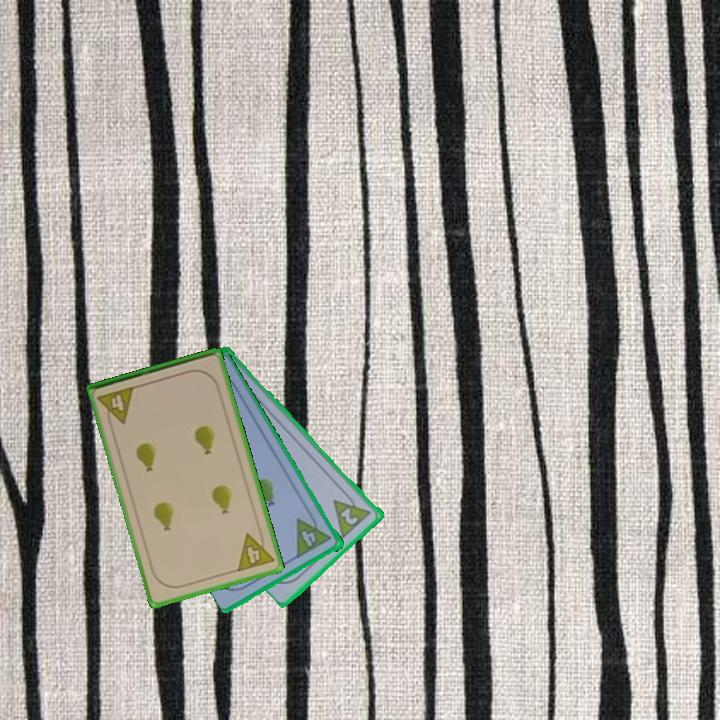2p: (330, 487, 375, 541)
4p: (293, 509, 335, 561), (233, 526, 277, 575), (94, 383, 138, 430)
